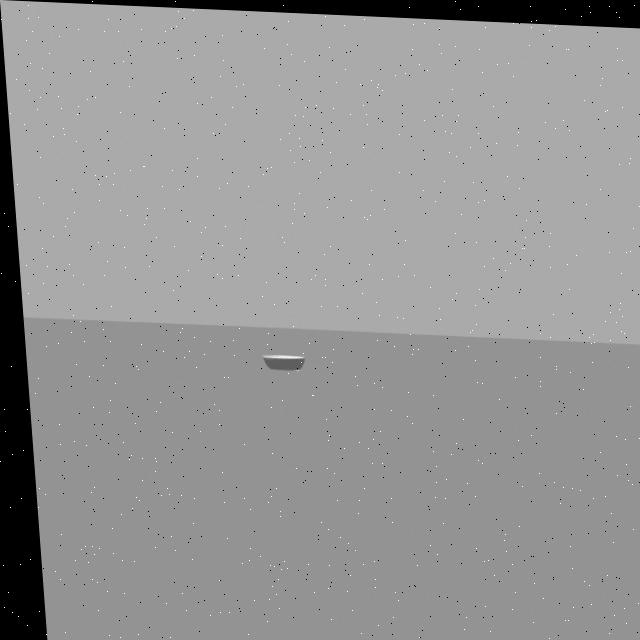bowl: (249, 339, 314, 382)
